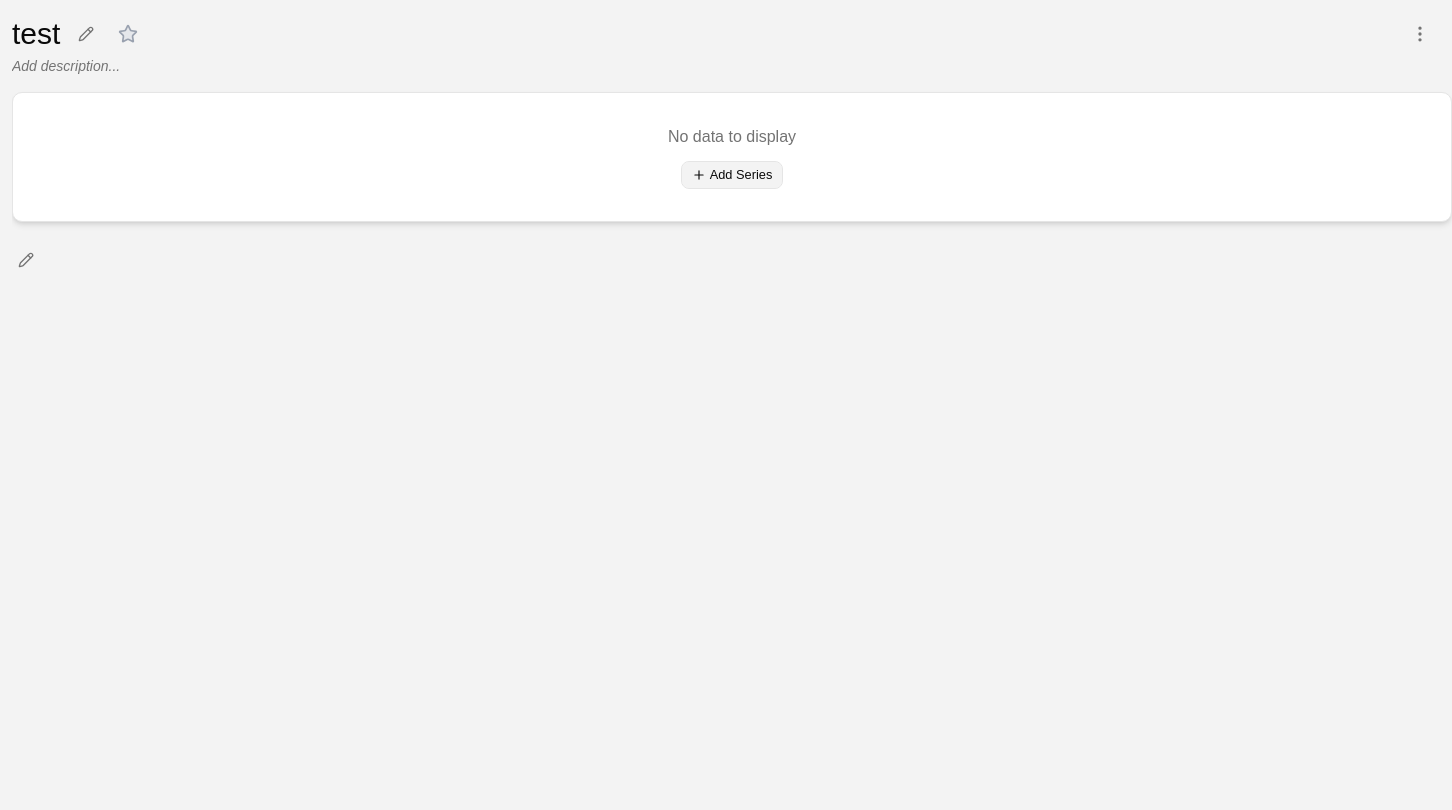
Test case: TrackerDetailView › opens and closes chart options panel from tracker menu
Step 1. Click the button named "tracker menu" → (1420, 34), box [1404, 18, 1436, 50]
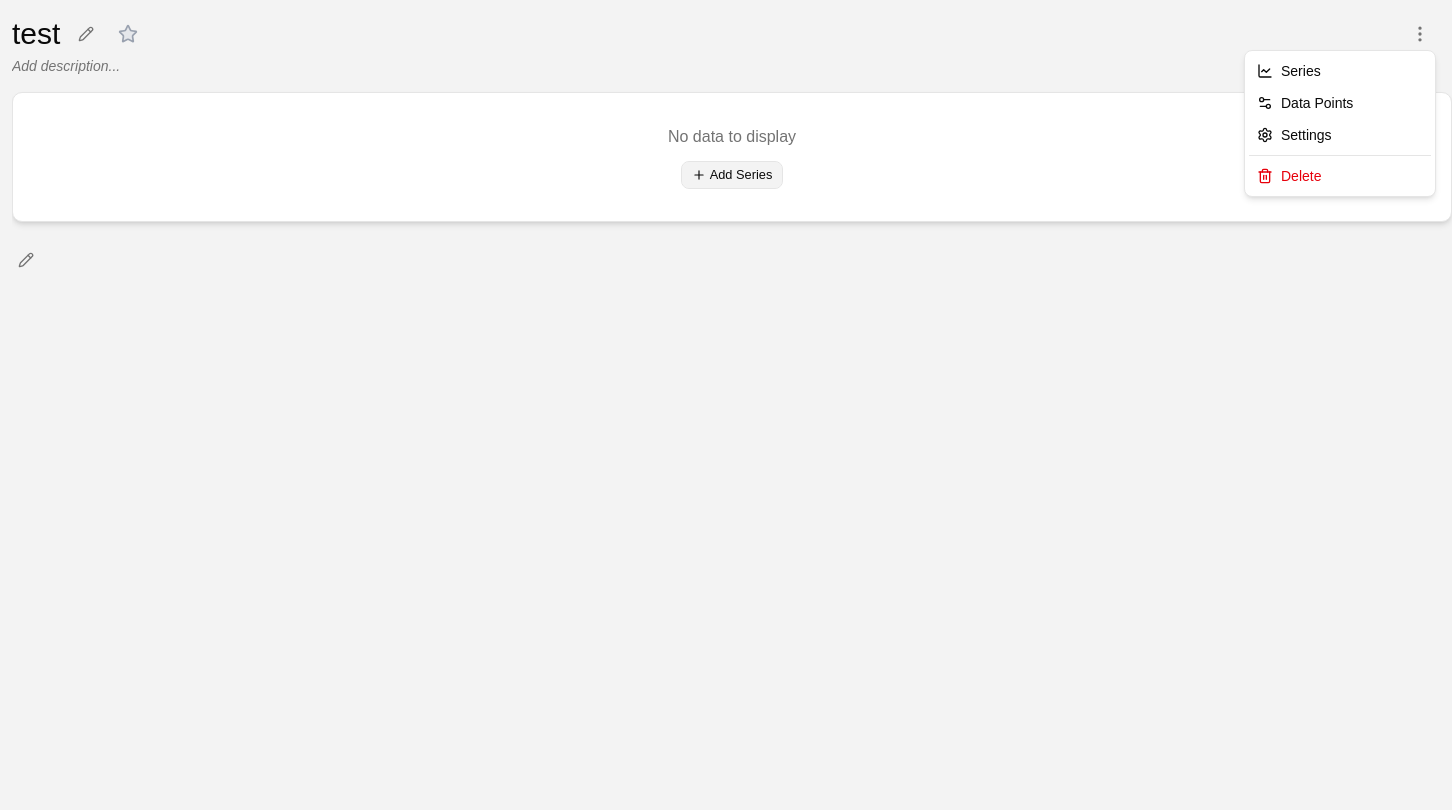
Step 2. Click the menu item "Settings" → (1294, 135), box [1257, 127, 1332, 143]
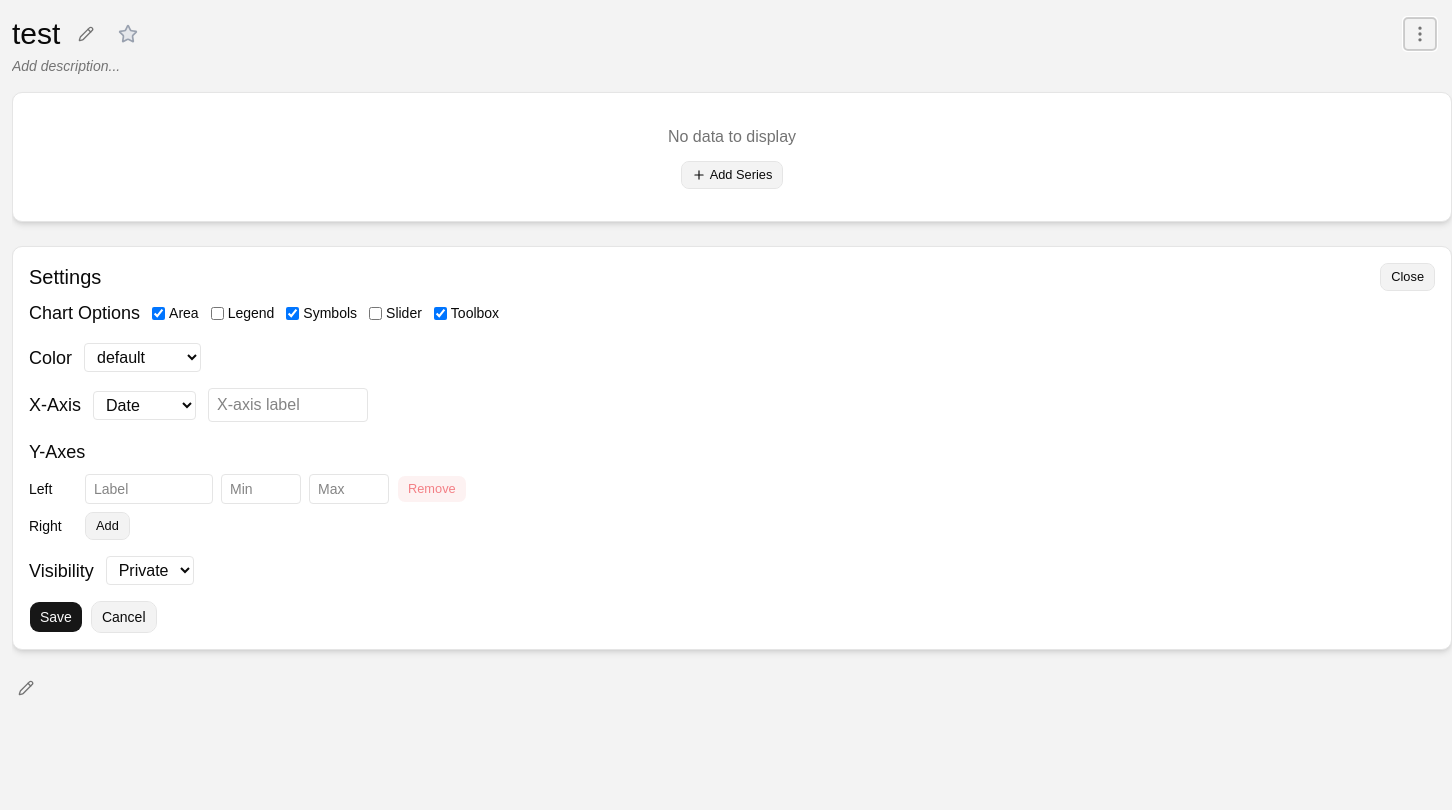
Check: the button "Close" is shown
Step 3. Click the button "Close" → (1408, 277), box [1380, 263, 1435, 291]
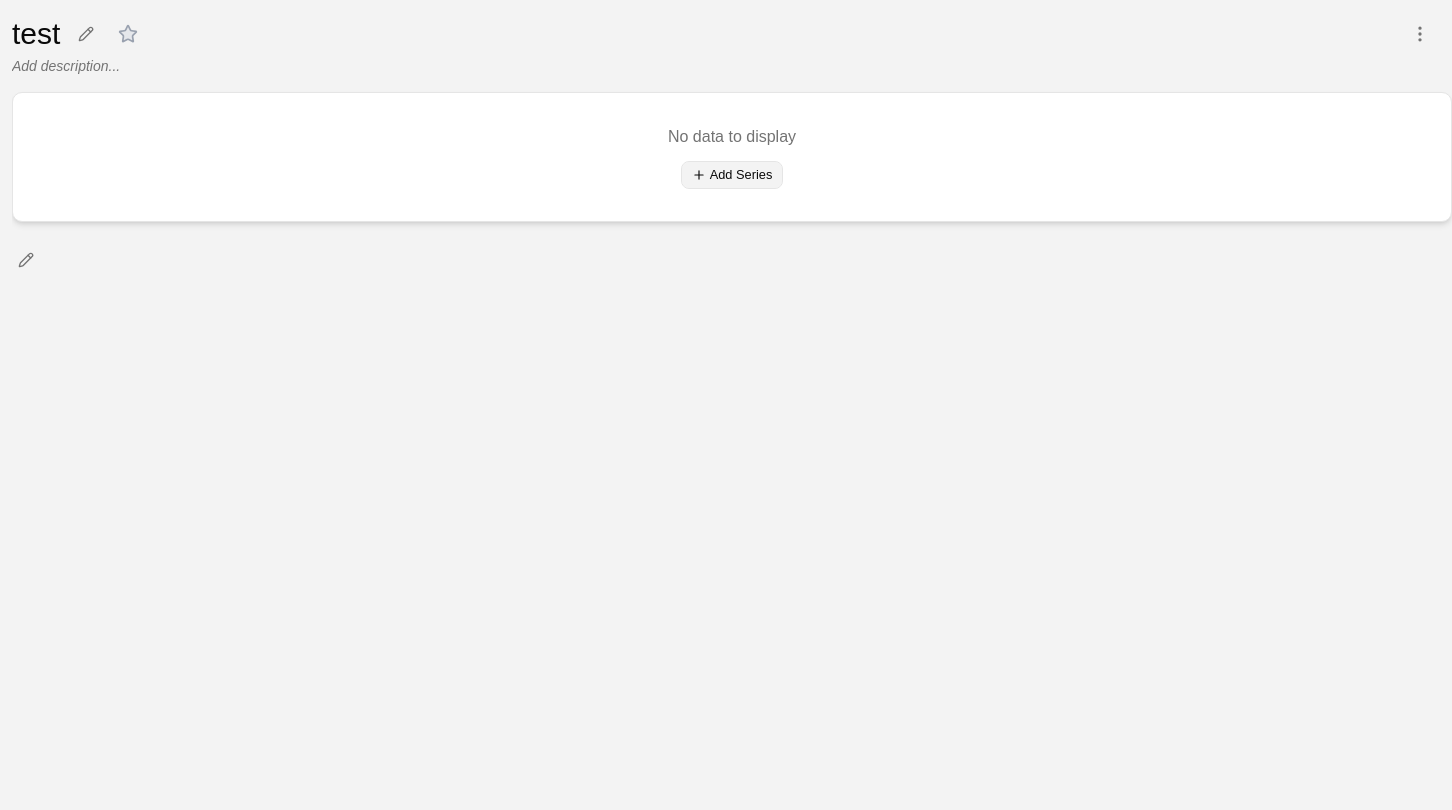
Check: the button "Close" is gone
